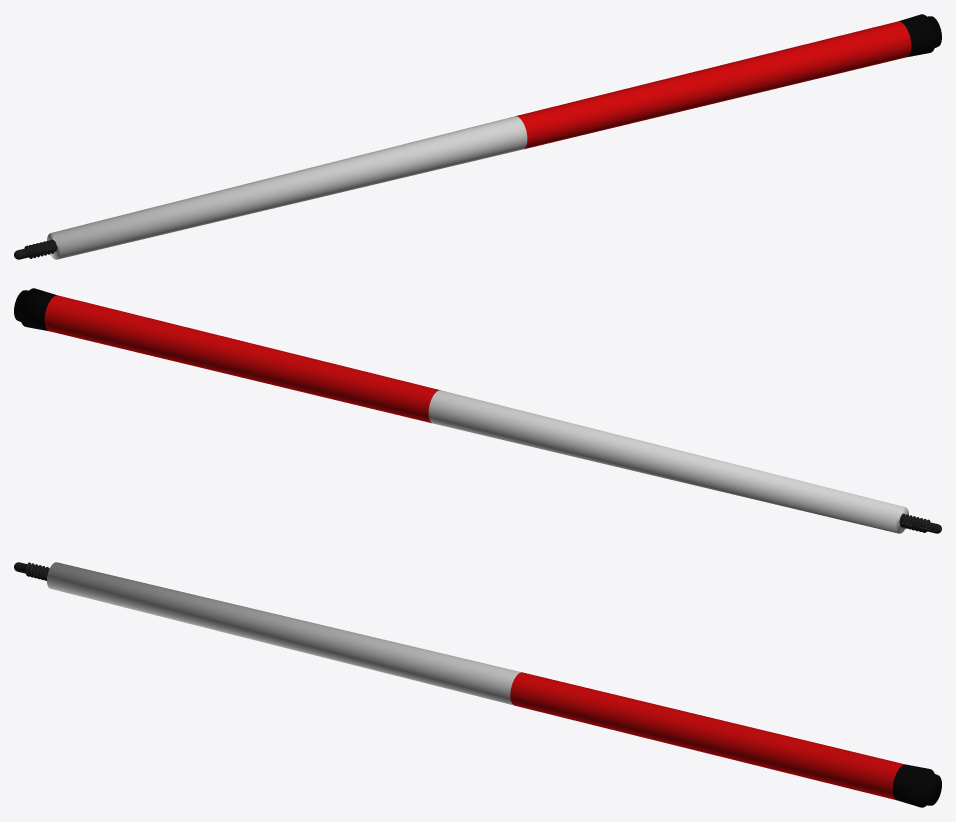
Rendered from Cuestick_Handle.dae.
The picture shows the model from 3 angles, top to bottom: view 1: azimuth 30°, elevation 25°; view 2: azimuth 150°, elevation 25°; view 3: azimuth 330°, elevation 25°; orthographic projection.
Size of the model in its own units: 0.775 by 0.029 by 0.029.
